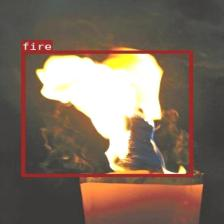fire: (20, 50, 192, 177)
